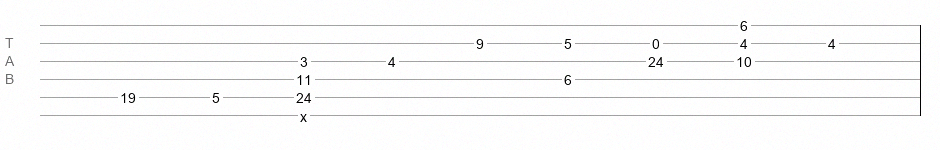0: (652, 36, 660, 46)
10: (736, 54, 752, 64)
11: (296, 72, 312, 82)
19: (120, 90, 136, 100)
24: (296, 90, 312, 100), (648, 54, 664, 64)
3: (300, 54, 308, 64)
4: (388, 54, 396, 64), (740, 36, 748, 46), (828, 36, 836, 46)
5: (212, 90, 220, 100), (564, 36, 572, 46)
6: (564, 72, 572, 82), (740, 18, 748, 28)
9: (476, 36, 484, 46)
x: (300, 109, 307, 117)
